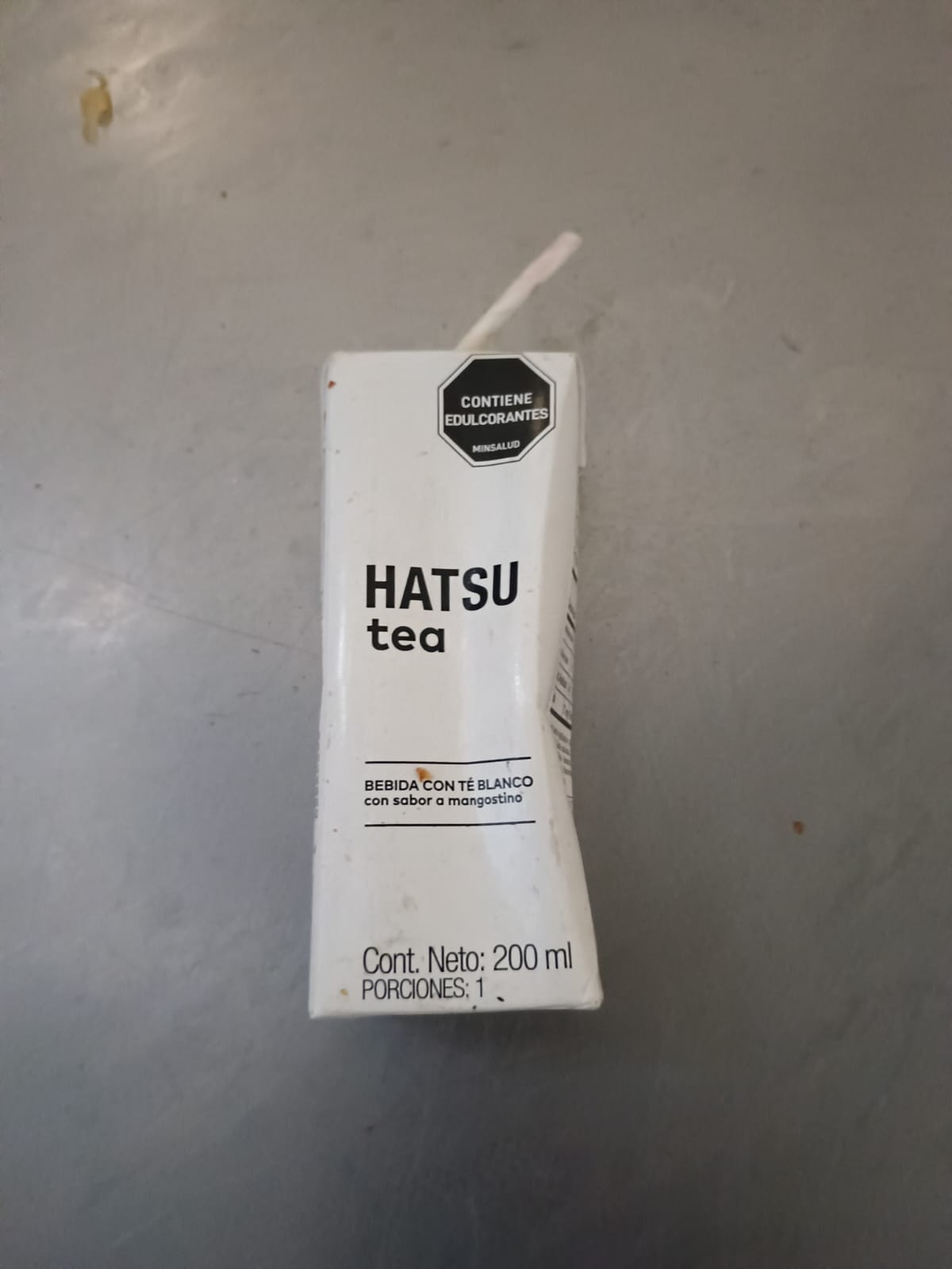Carton: (306, 343, 609, 1023)
